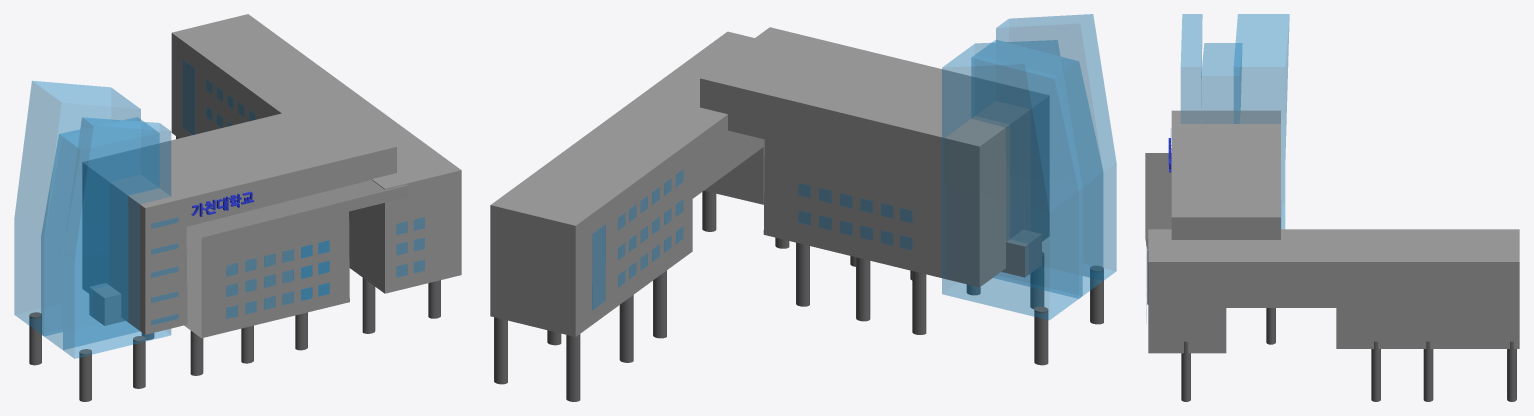
Rendered from vision_tower2.gltf.
3 renders of one model, left to right at view 1: azimuth 30°, elevation 25°; view 2: azimuth 150°, elevation 25°; view 3: azimuth 270°, elevation 25°, orthographic. The views are drawn at different scales.
Visible parts, largest first — view 1: Cube.001, Cube.029, Cube.005, Cube, Cube.002, Cube.003, Cube.049, Cylinder.006, Cylinder, Cylinder.001, Cylinder.002, Text (+4 smaller); view 2: Cube.001, Cube.029, Cube.002, Cube.003, Cube, Cube.049, Cylinder.016, Cylinder.015, Cylinder.018, Cylinder.017, Cylinder.012, Cylinder.014 (+5 smaller); view 3: Cube.029, Cube.001, Cube.002, Cube.003, Cube, Cube.005, Cylinder.011, Cylinder.010, Cylinder.012, Cylinder.007, Cylinder.019.
Part boxes in pixels (bbox=[...]): Cube.001: bbox=[82, 101, 396, 334]; Cube.029: bbox=[89, 14, 461, 325]; Cube.005: bbox=[184, 180, 407, 338]; Cube: bbox=[63, 117, 170, 358]; Cube.002: bbox=[14, 81, 140, 336]; Cube.003: bbox=[41, 117, 159, 349]; Cube.049: bbox=[183, 60, 194, 134]; Cylinder.006: bbox=[362, 276, 375, 333]; Cylinder: bbox=[29, 312, 41, 365]; Cylinder.001: bbox=[79, 349, 91, 401]; Cylinder.002: bbox=[133, 336, 145, 388]; Text: bbox=[191, 191, 253, 216]; Cube.001: bbox=[700, 27, 1049, 287]; Cube.029: bbox=[490, 31, 1041, 336]; Cube.002: bbox=[942, 40, 1082, 319]; Cube.003: bbox=[971, 40, 1102, 298]; Cube: bbox=[996, 14, 1116, 280]; Cube.049: bbox=[592, 224, 605, 310]; Cylinder.016: bbox=[566, 334, 580, 401]; Cylinder.015: bbox=[619, 295, 633, 362]; Cylinder.018: bbox=[856, 257, 870, 321]; Cylinder.017: bbox=[912, 271, 926, 334]; Cylinder.012: bbox=[494, 317, 507, 384]; Cylinder.014: bbox=[653, 270, 666, 338]; Cube.029: bbox=[1148, 229, 1519, 353]; Cube.001: bbox=[1171, 110, 1280, 239]; Cube.002: bbox=[1234, 14, 1289, 228]; Cube.003: bbox=[1201, 43, 1242, 123]; Cube: bbox=[1181, 14, 1202, 123]; Cube.005: bbox=[1145, 153, 1171, 304]; Cylinder.011: bbox=[1423, 341, 1433, 401]; Cylinder.010: bbox=[1371, 341, 1380, 401]; Cylinder.012: bbox=[1507, 341, 1516, 401]; Cylinder.007: bbox=[1181, 341, 1190, 401]; Cylinder.019: bbox=[1266, 308, 1275, 344].
Size of the model in its own units: 27.69 by 19.78 by 27.96.
